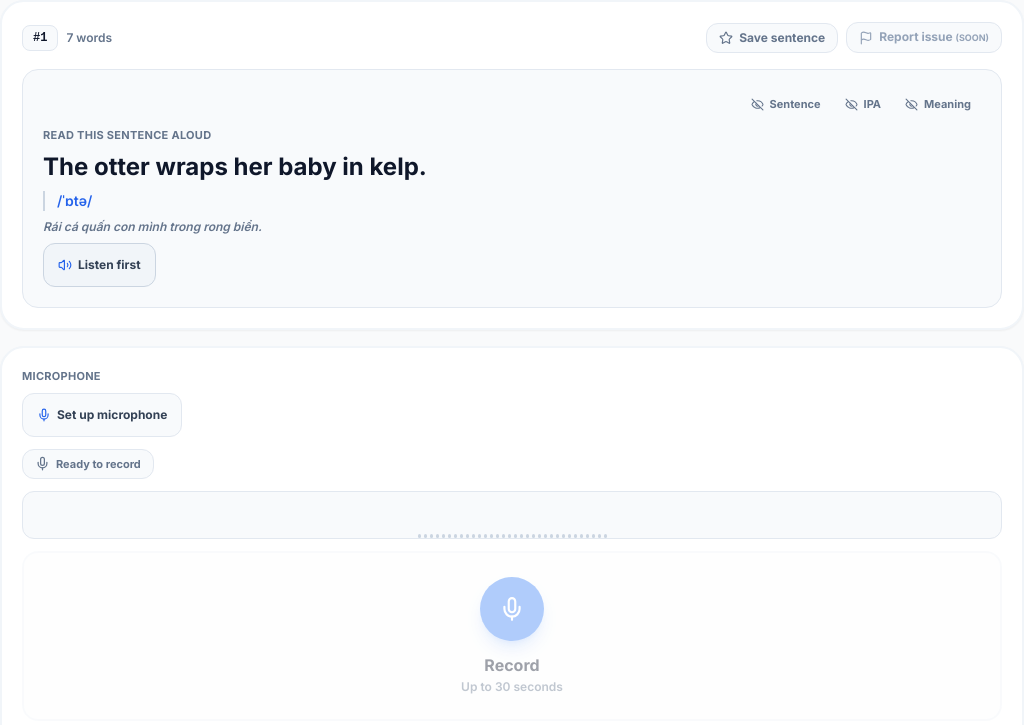
it: ShadowingModePanel — failures each say their own thing › reports a withdrawn permission distinctly from a refused one
The width and height of the screenshot is (1024, 725).
Click the button "Set up microphone" at (102, 414), box [22,392,182,436]
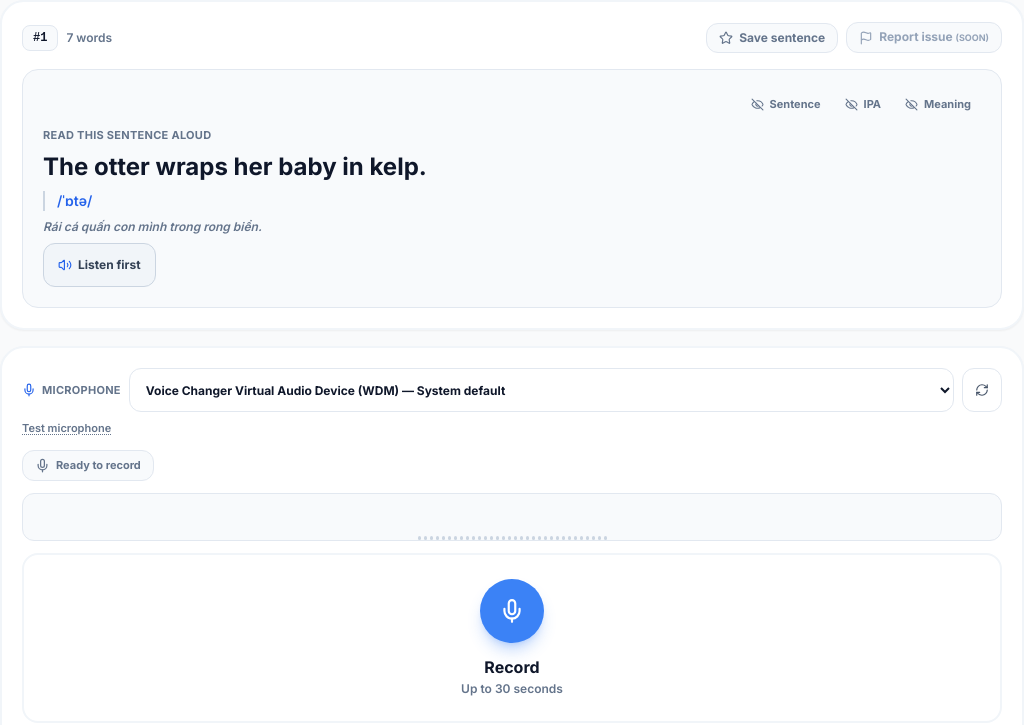
Click the button "Record Up to 30 seconds" at (512, 638), box [22,552,1002,722]
(page scrolled)
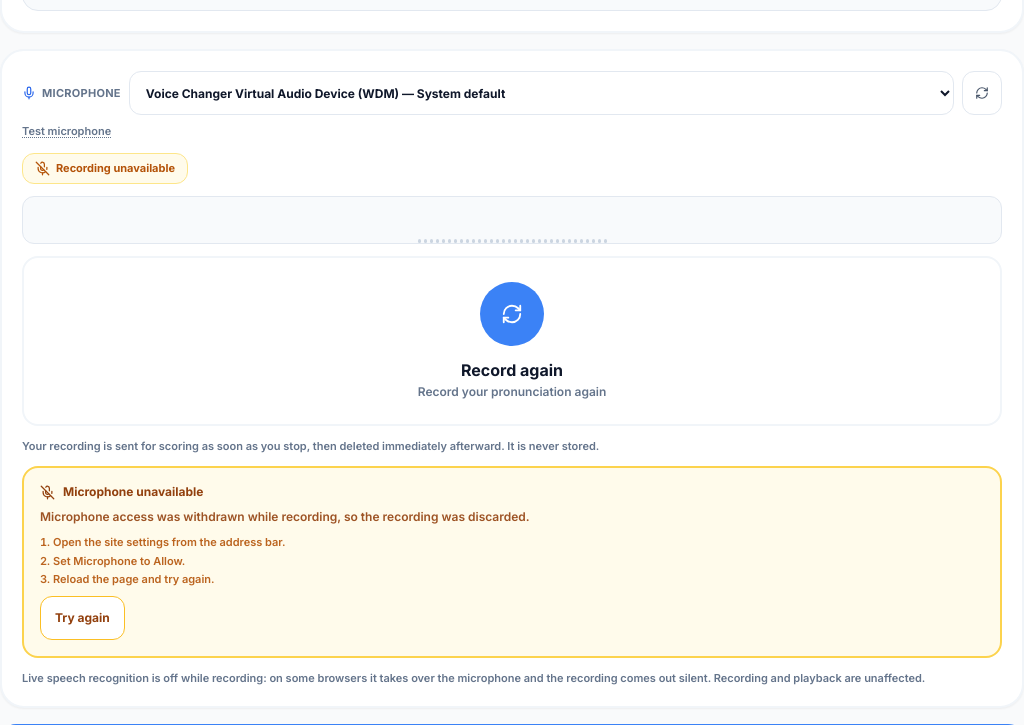
Check: the text "withdrawn while recording" is shown, box [40,509,530,524]
